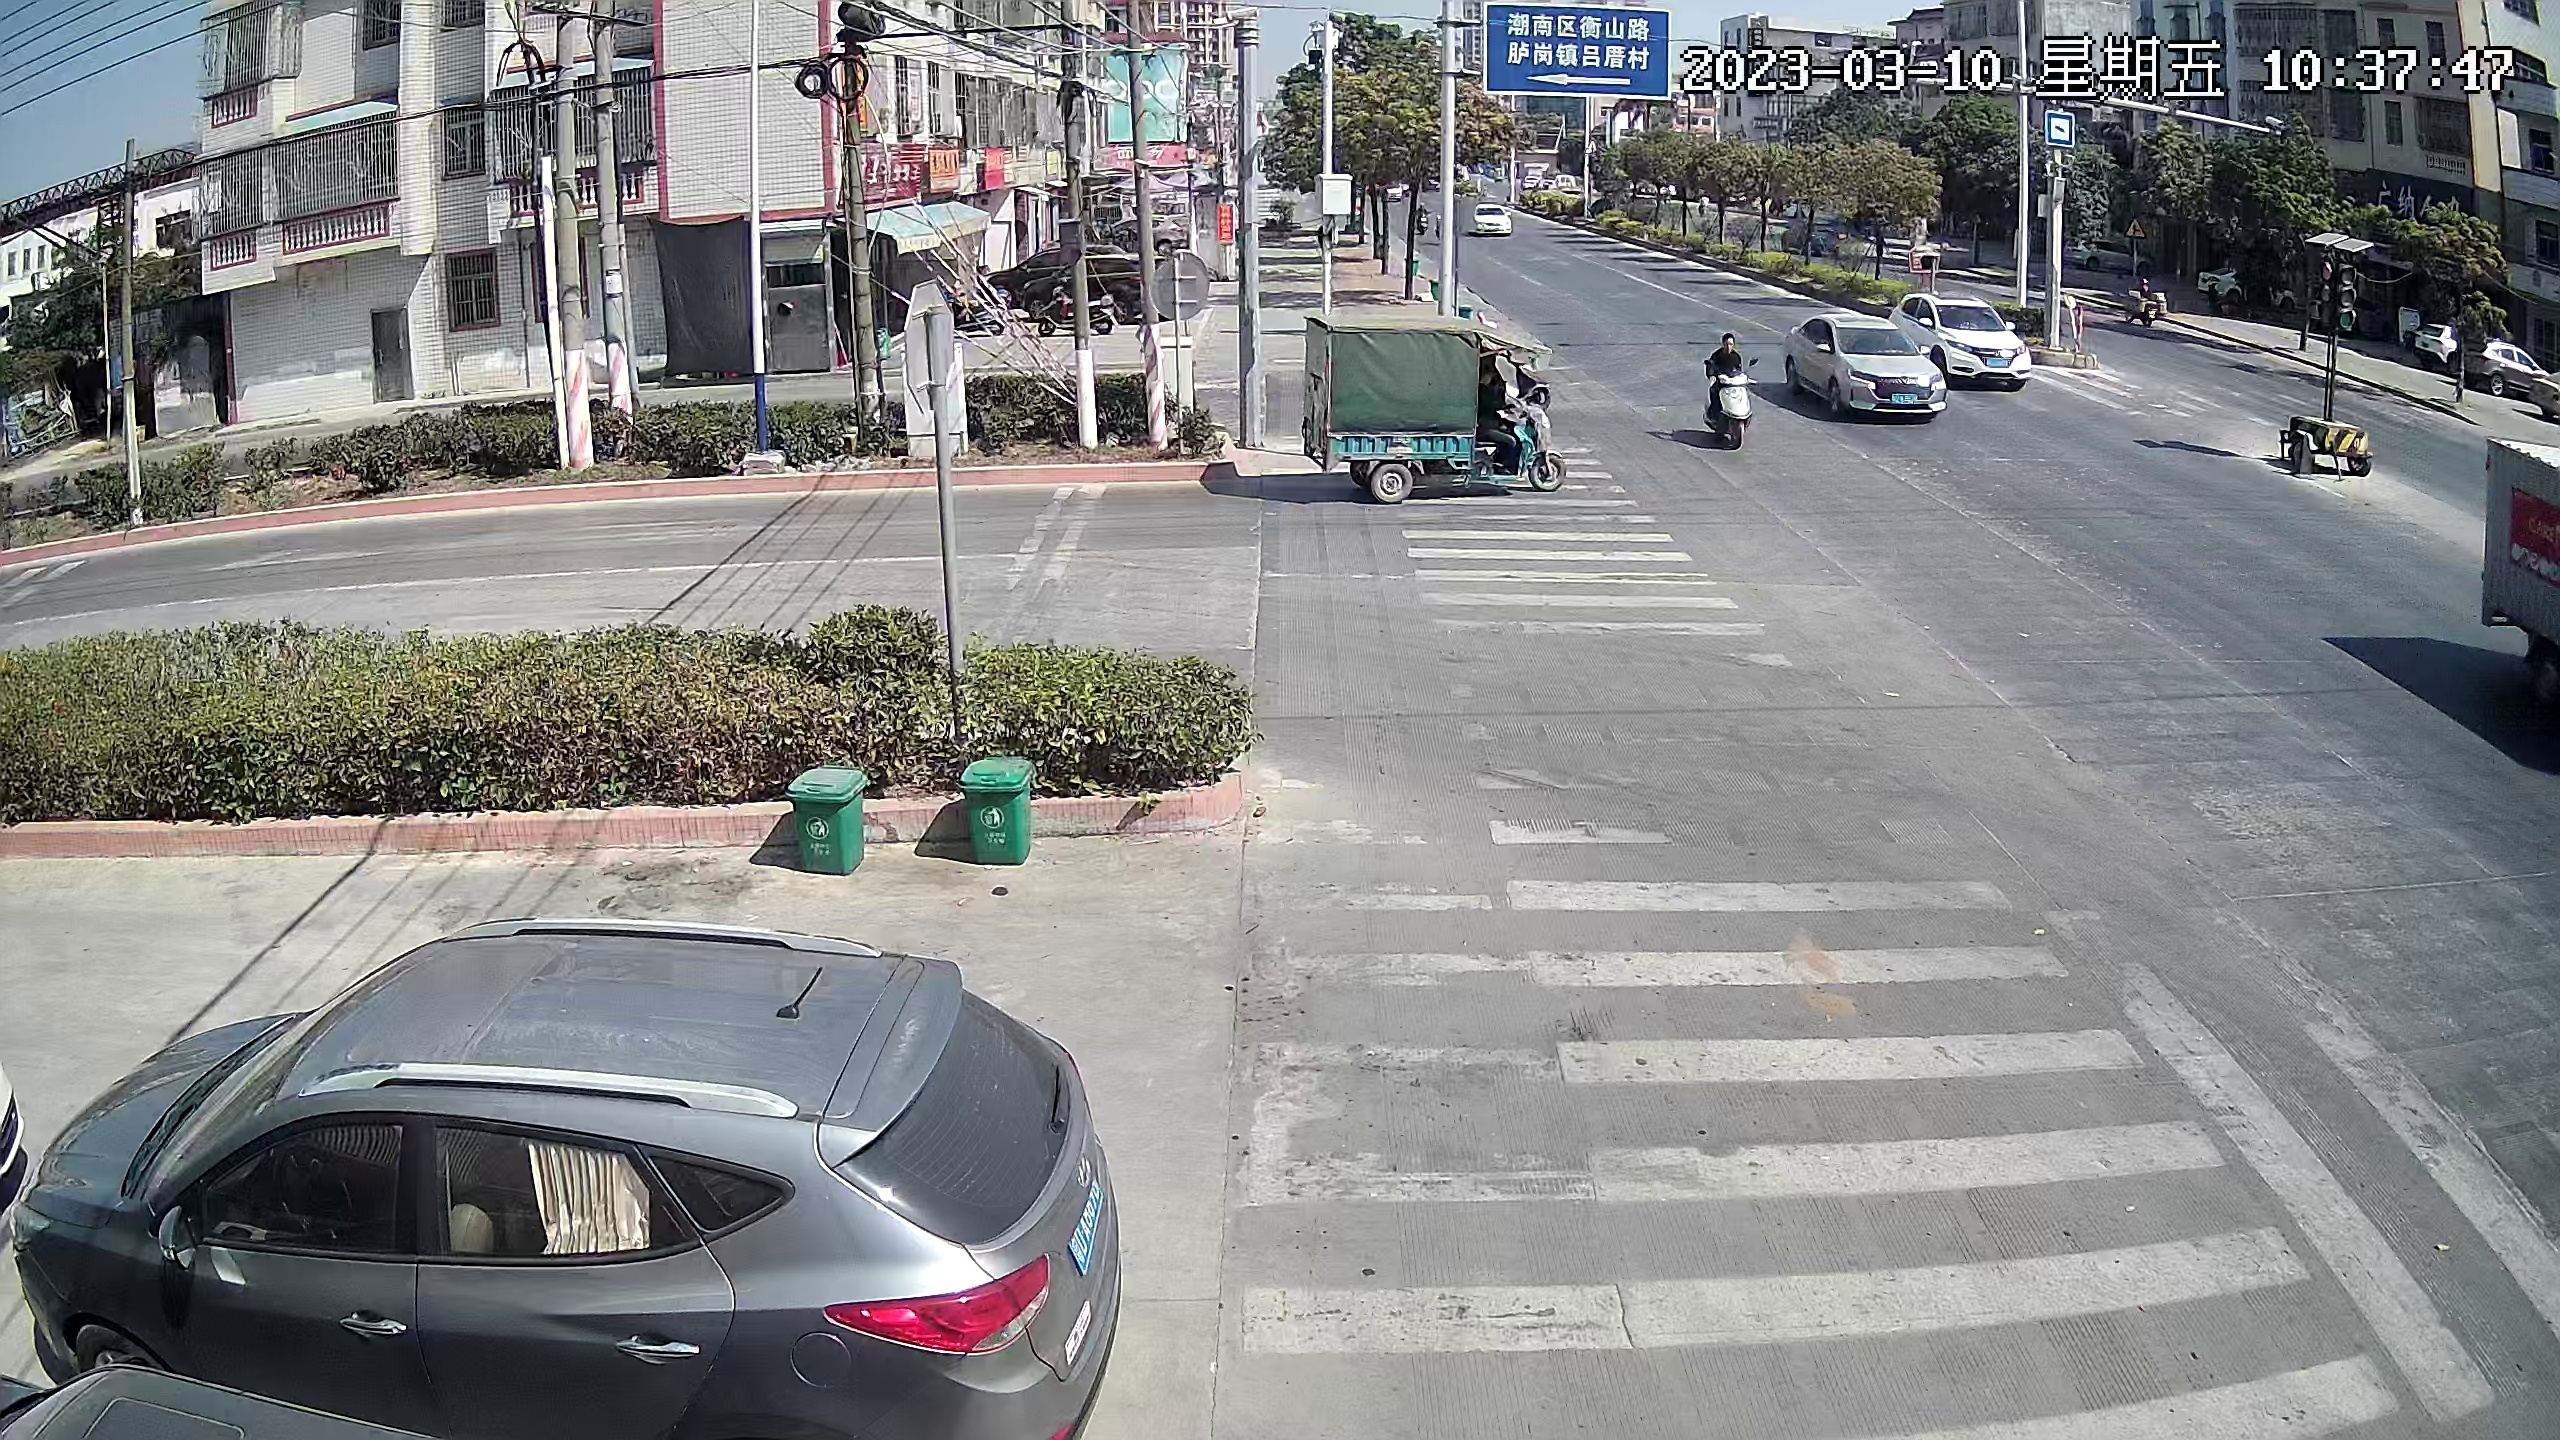head: (1715, 325, 1744, 382)
motorcycle: (1699, 320, 1757, 458), (1045, 285, 1109, 327), (1415, 203, 1437, 238)
sedan: (1782, 310, 1943, 432), (1013, 243, 1135, 295), (2454, 334, 2542, 397), (2418, 315, 2458, 370), (1469, 198, 1514, 240)
suv: (34, 922, 1102, 1434), (1898, 289, 2032, 404)
tricycle: (1308, 294, 1564, 535)
truck: (2478, 430, 2560, 680)
